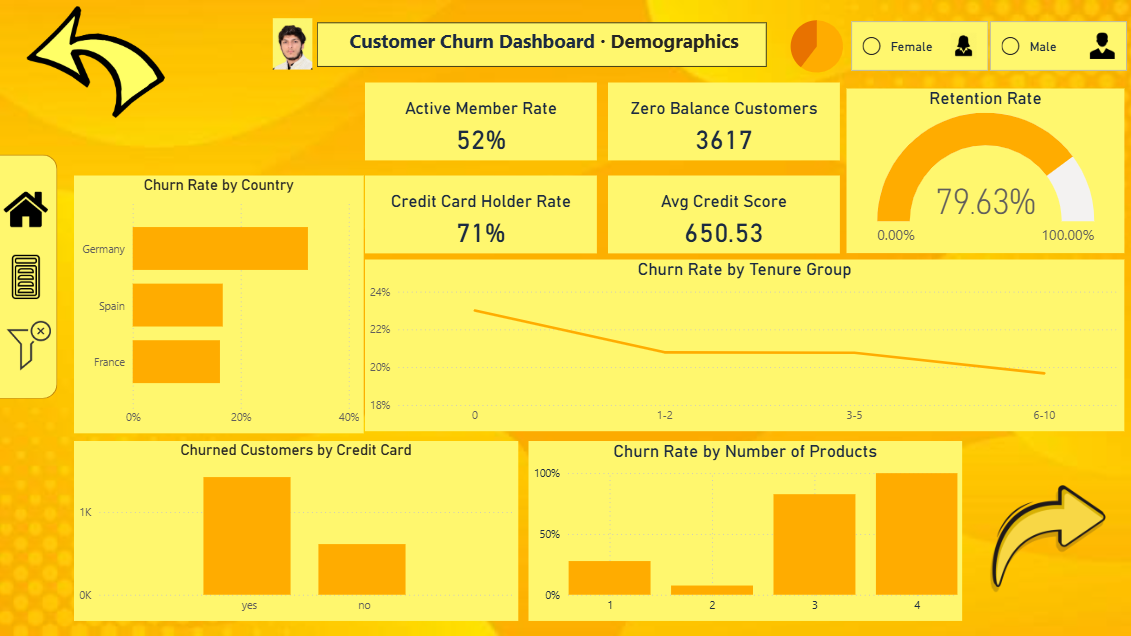

The dashboard page shown, as its layout file describes it:
{"tool":"powerbi","page":{"name":"Page 2","canvas":[1280,720],"ordinal":1},"visuals":[{"type":"advancedSlicerVisual","fields":{"Values":["customer_churn_processed.gender"]},"box":[958,18,322,66],"z":0},{"type":"gauge","fields":{"Y":["customer_churn_processed.Retention Rate"]},"box":[958,100,314,186],"z":1000},{"type":"clusteredColumnChart","title":"Churn Rate by Number of Products","fields":{"Y":["customer_churn_processed.Churn Rate"],"Category":["customer_churn_processed.products_number"]},"box":[598.3,498.3,489.8,203.4],"z":2000},{"type":"lineChart","title":"Churn Rate by Tenure Group","fields":{"Category":["customer_churn_processed.tenure_group"],"Y":["customer_churn_processed.Churn Rate"]},"box":[414,294,858,194],"z":3000},{"type":"image","box":[1090,516,190,186],"z":4000},{"type":"barChart","title":"Churn Rate by Country","fields":{"Category":["customer_churn_processed.country"],"Y":["customer_churn_processed.Churn Rate"]},"box":[84.7,198.3,327.1,291.5],"z":5000},{"type":"textbox","box":[360,26,508,50],"z":6000},{"type":"cardVisual","fields":{"Data":["customer_churn_processed.Active Member Rate"]},"box":[414,94,262,88],"z":7000},{"type":"cardVisual","fields":{"Data":["customer_churn_processed.Avg Credit Score"]},"box":[688,198,262,88],"z":8000},{"type":"cardVisual","fields":{"Data":["customer_churn_processed.Credit Card Holder Rate"]},"box":[414,198,262,88],"z":9000},{"type":"image","box":[4,2,212,136],"z":10000},{"type":"columnChart","title":"Churned Customers by Credit Card","fields":{"Y":["customer_churn_processed.Churned Customers"],"Category":["customer_churn_processed.credit_card"]},"box":[84.7,498.3,501.7,203.4],"z":11000},{"type":"pieChart","fields":{"Y":["customer_churn_processed.Churn Rate"],"Category":["customer_churn_processed.gender"]},"box":[868,10,112,84],"z":12000},{"type":"cardVisual","fields":{"Data":["customer_churn_processed.Zero Balance Customers"]},"box":[688,94,262,88],"z":12500},{"type":"image","box":[304,16,56,68],"z":13000},{"type":"shape","box":[0,174,66,276],"z":15000},{"type":"image","box":[0,275,60,76],"z":16000},{"type":"image","box":[0,198,60,76],"z":17000},{"type":"image","box":[4,352,60,76],"z":18000}]}

Visuals, with their boxes in screenshot pixels (x1, y1, x2, y2), scaled from the page's 1280x720 canvas onto the 1131x636 screenshot:
advancedSlicerVisual - customer_churn_processed.gender: {"x1": 846, "y1": 16, "x2": 1130, "y2": 74}
gauge - customer_churn_processed.Retention Rate: {"x1": 846, "y1": 88, "x2": 1124, "y2": 253}
"Churn Rate by Number of Products" clusteredColumnChart: {"x1": 529, "y1": 440, "x2": 961, "y2": 620}
"Churn Rate by Tenure Group" lineChart: {"x1": 366, "y1": 260, "x2": 1124, "y2": 431}
image: {"x1": 963, "y1": 456, "x2": 1130, "y2": 620}
"Churn Rate by Country" barChart: {"x1": 75, "y1": 175, "x2": 364, "y2": 433}
textbox: {"x1": 318, "y1": 23, "x2": 767, "y2": 67}
cardVisual - customer_churn_processed.Active Member Rate: {"x1": 366, "y1": 83, "x2": 597, "y2": 161}
cardVisual - customer_churn_processed.Avg Credit Score: {"x1": 608, "y1": 175, "x2": 839, "y2": 253}
cardVisual - customer_churn_processed.Credit Card Holder Rate: {"x1": 366, "y1": 175, "x2": 597, "y2": 253}
image: {"x1": 4, "y1": 2, "x2": 191, "y2": 122}
"Churned Customers by Credit Card" columnChart: {"x1": 75, "y1": 440, "x2": 518, "y2": 620}
pieChart - customer_churn_processed.Churn Rate x customer_churn_processed.gender: {"x1": 767, "y1": 9, "x2": 866, "y2": 83}
cardVisual - customer_churn_processed.Zero Balance Customers: {"x1": 608, "y1": 83, "x2": 839, "y2": 161}
image: {"x1": 269, "y1": 14, "x2": 318, "y2": 74}
shape: {"x1": 0, "y1": 154, "x2": 58, "y2": 398}
image: {"x1": 0, "y1": 243, "x2": 53, "y2": 310}
image: {"x1": 0, "y1": 175, "x2": 53, "y2": 242}
image: {"x1": 4, "y1": 311, "x2": 57, "y2": 378}
